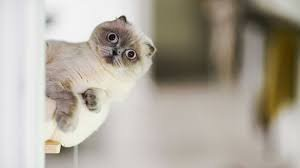cat: (50, 13, 158, 145)
